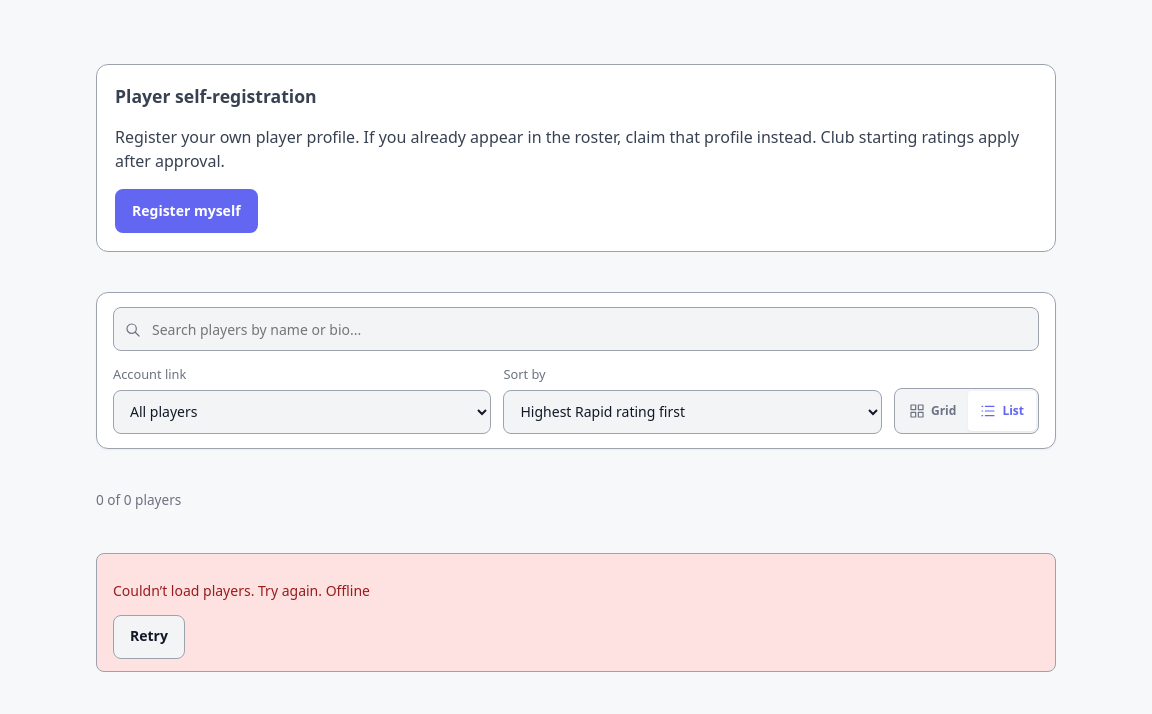
Test: announces a failed roster load and retries without claiming the roster is empty
This screenshot has width=1152, height=714.
(page scrolled)
expect the message "Couldn’t load players. Try again. Offline Retry" is shown: met, box x1=96 y1=553 x2=1056 y2=672
expect the text "No Players Found" is not shown: met
Click the button "Retry".
click(149, 637)  # box x1=113 y1=615 x2=185 y2=659
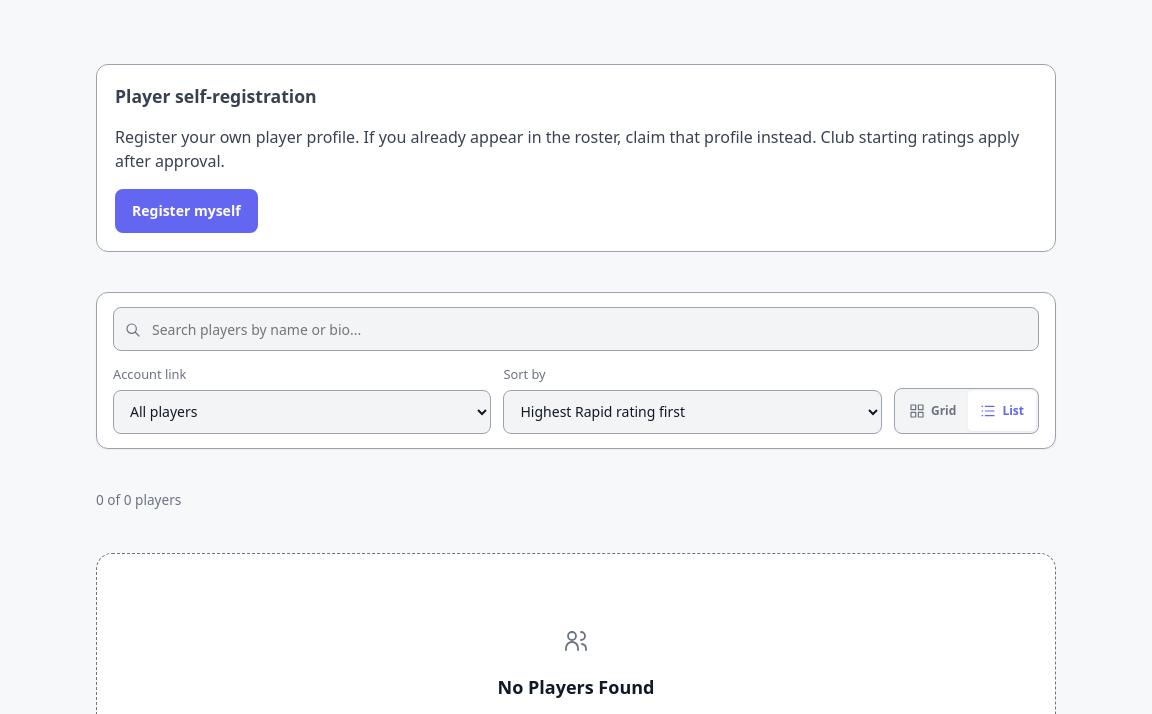
expect the message "Couldn’t load players. Try again. Offline Retry" is gone: met
expect the heading "No Players Found" is shown: met, box x1=498 y1=674 x2=654 y2=701
